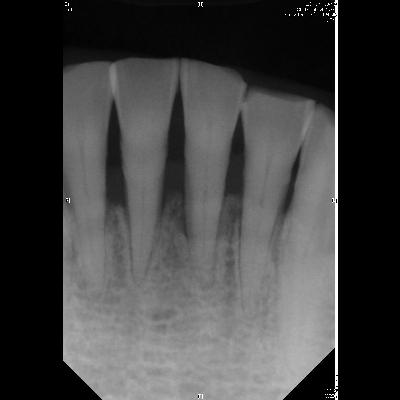tooth: (237, 83, 318, 322), (110, 55, 180, 289), (178, 57, 248, 291)
